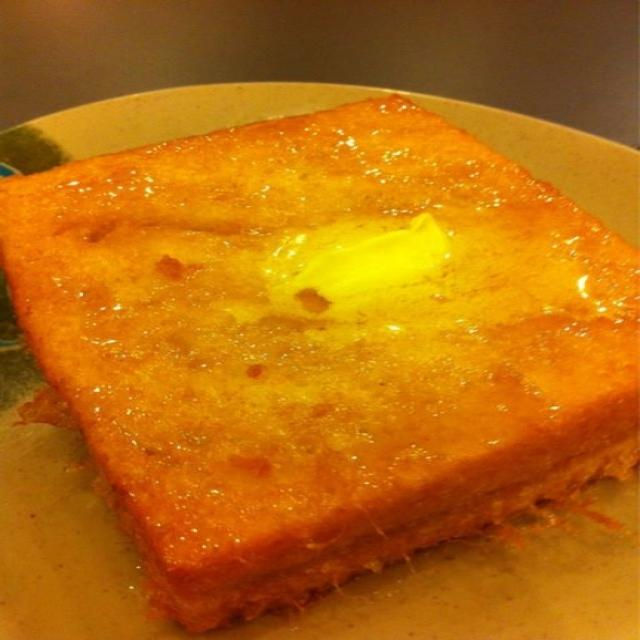面包点心: (9, 27, 627, 626)
